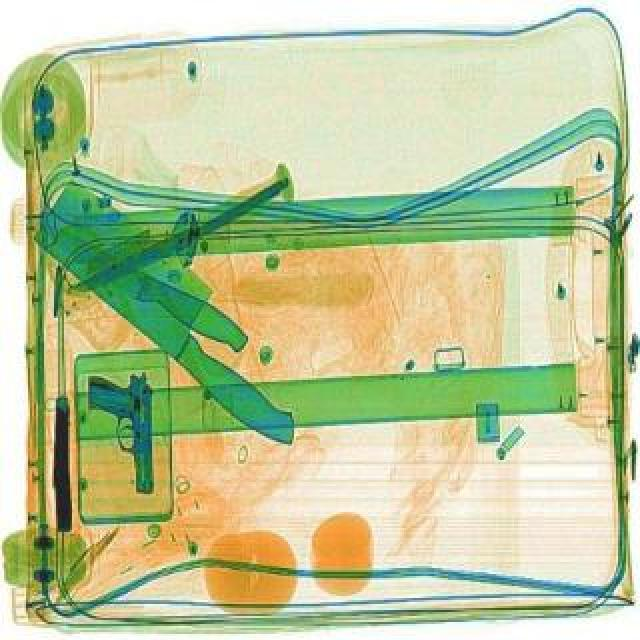gun: (86, 368, 158, 492), (44, 396, 80, 532)
knife: (20, 170, 338, 456), (20, 206, 254, 356), (66, 178, 290, 298)
